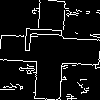L: (25, 25, 72, 55)
